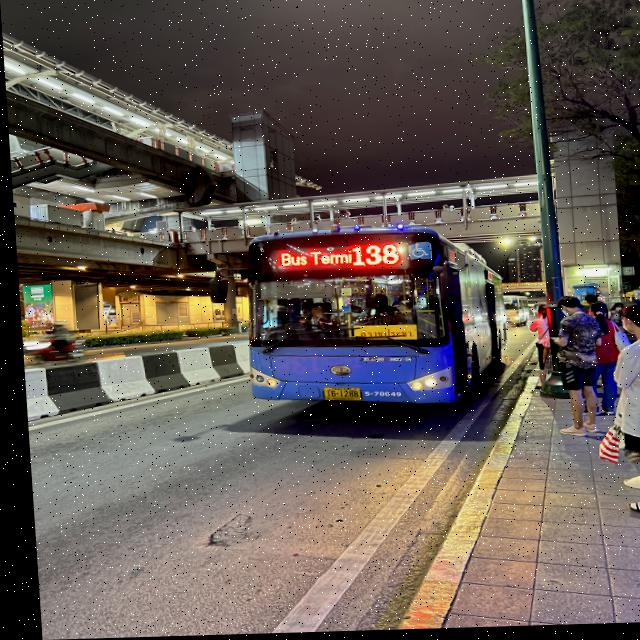BMTA-bus: (236, 227, 505, 415)
Bus-Line-Number: (348, 244, 401, 270)
Destination-Sign-Normal-Expressway: (348, 325, 412, 344)
